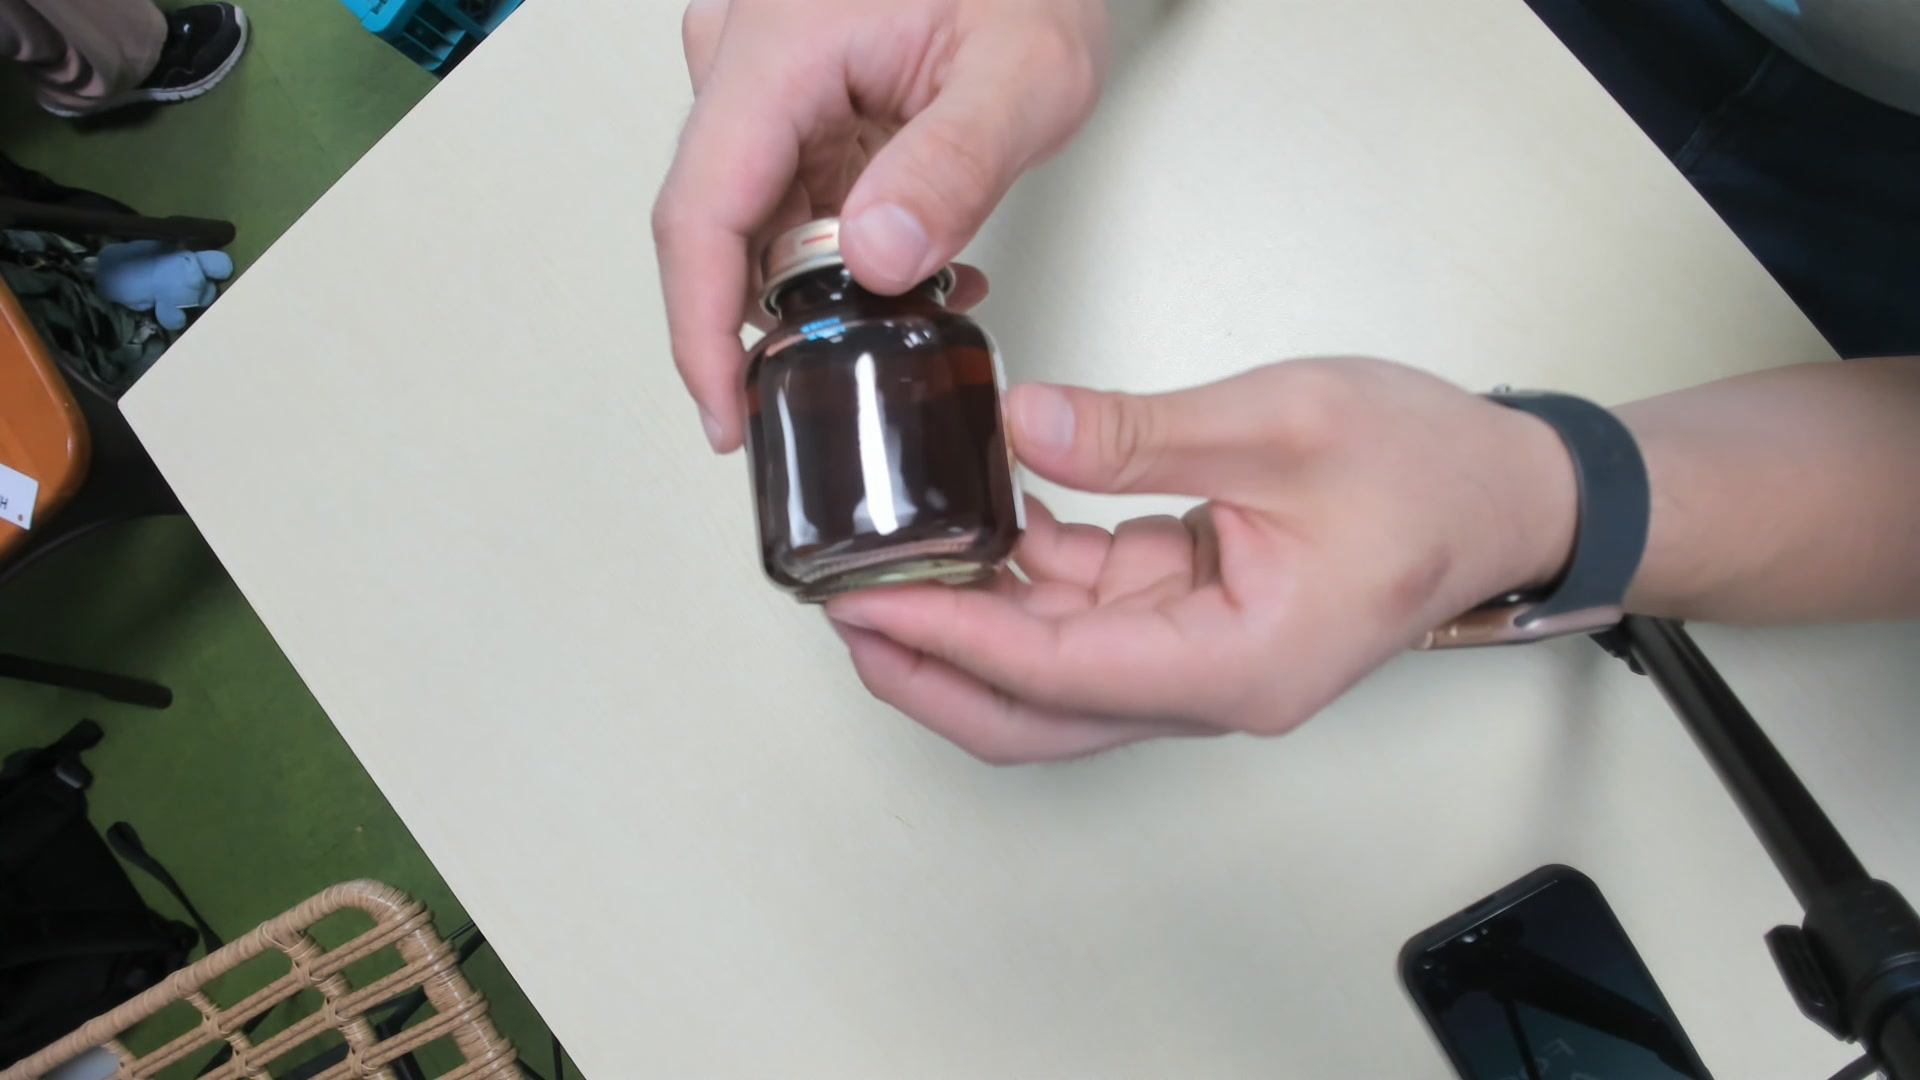OtherSauceDressing_0-99g_NonHalal_NonHealthy: (740, 216, 1027, 597)
